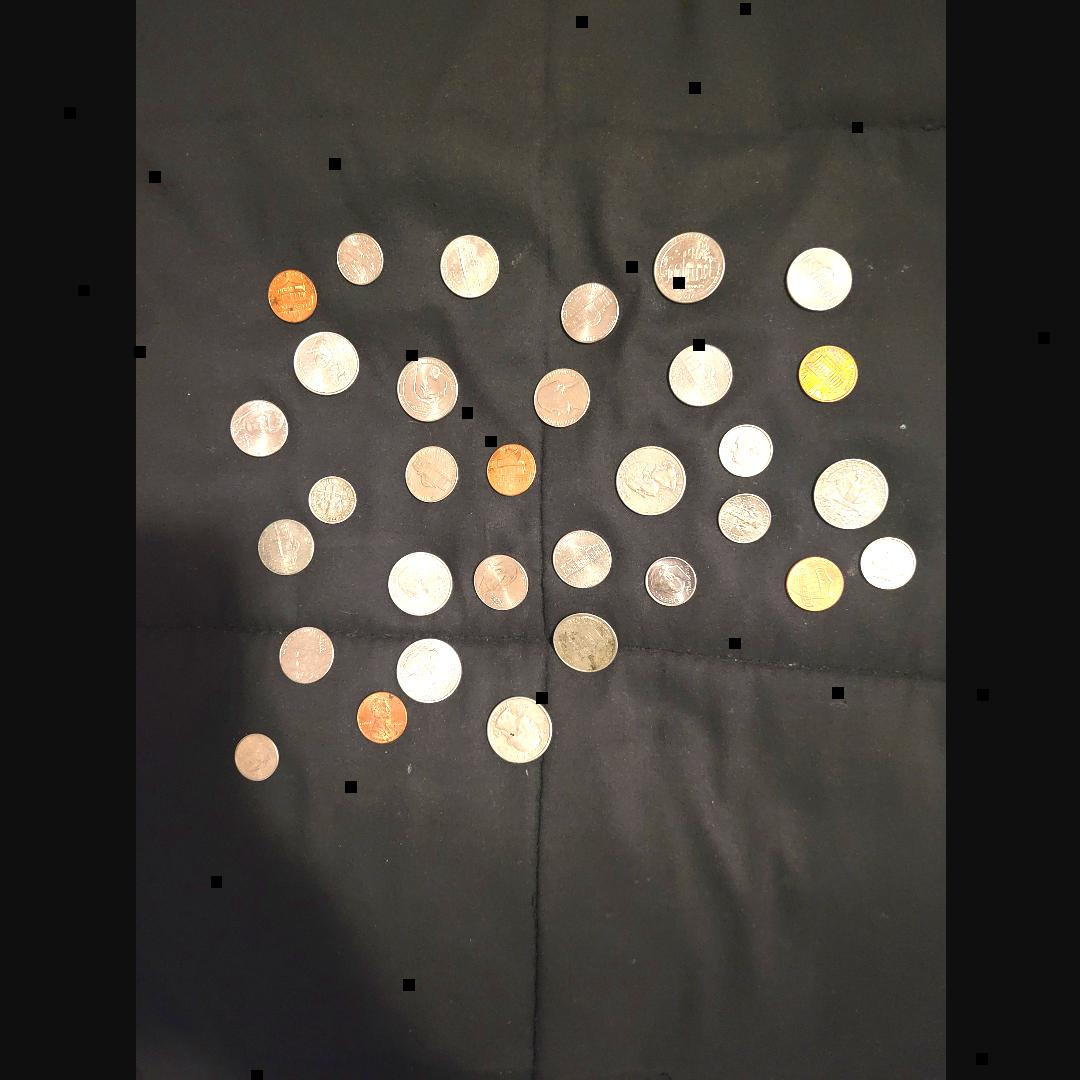Dime: (858, 536, 915, 594), (718, 422, 770, 478), (715, 494, 771, 544), (335, 231, 384, 287), (644, 554, 694, 606), (306, 473, 356, 524), (232, 731, 278, 781)
Nickel: (786, 242, 850, 314), (437, 234, 499, 298), (557, 282, 619, 344), (530, 369, 592, 430), (668, 344, 730, 404), (401, 440, 459, 504), (470, 552, 530, 612), (275, 624, 335, 683), (552, 531, 610, 591), (229, 399, 289, 457), (255, 517, 313, 577)
Penny: (476, 440, 538, 502), (796, 342, 858, 402), (783, 554, 843, 609), (266, 269, 320, 323), (356, 694, 406, 744)
Quarter: (809, 459, 887, 531), (650, 233, 726, 305), (614, 445, 686, 519), (288, 330, 358, 400), (486, 694, 552, 766), (396, 636, 461, 708), (548, 612, 618, 674), (388, 552, 452, 617), (394, 356, 457, 422)
